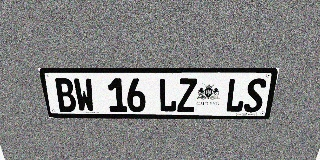1: (106, 78, 127, 112)
6: (126, 78, 146, 112)
B: (53, 78, 77, 112)
L: (224, 78, 248, 112), (158, 78, 177, 112)
S: (243, 78, 267, 112)
W: (73, 78, 96, 112)
Z: (177, 78, 197, 112)
